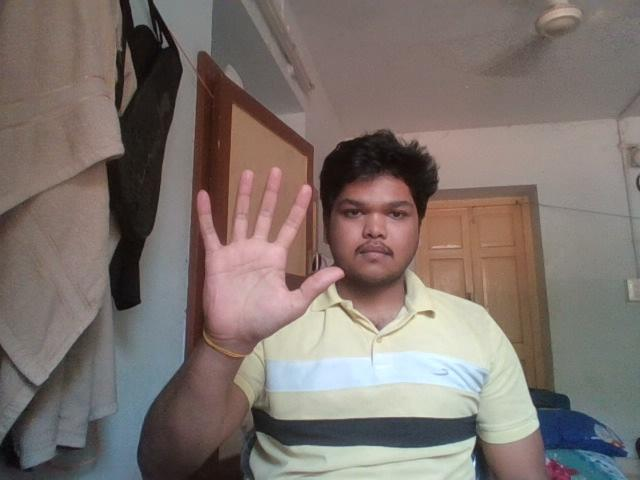hello: (169, 158, 347, 350)
